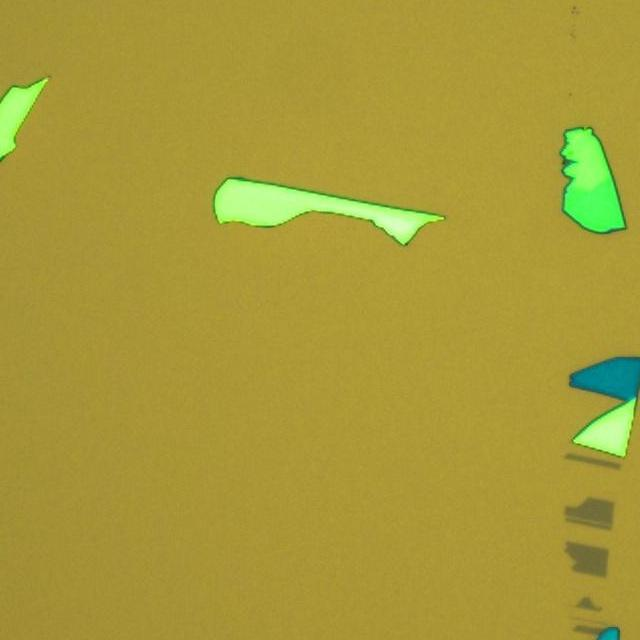monolayer-eWW4: (562, 494, 640, 530), (564, 540, 610, 578), (564, 451, 622, 470), (572, 625, 604, 640), (576, 596, 602, 612)
